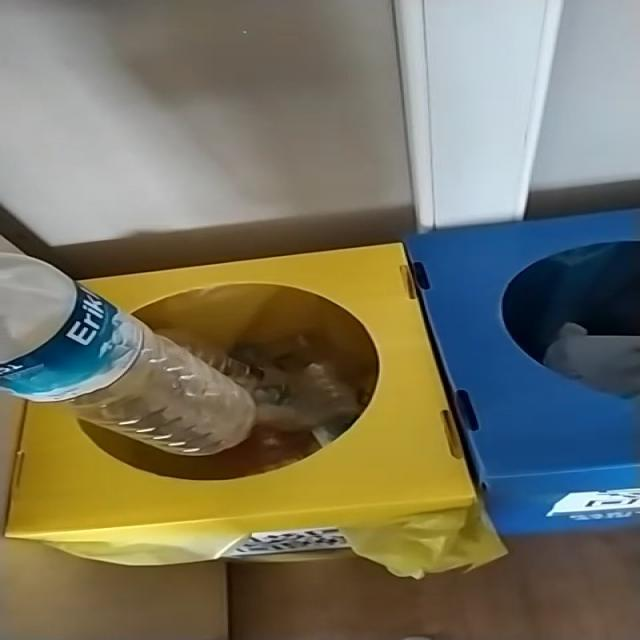Plastic: (1, 254, 256, 456)
